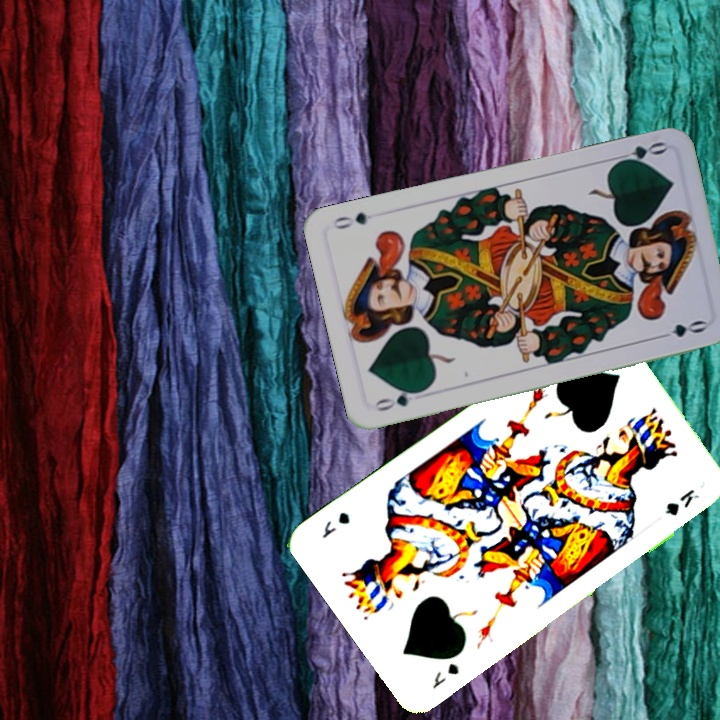GK: (428, 658, 462, 692)
GO: (609, 137, 668, 168), (370, 385, 427, 414)
